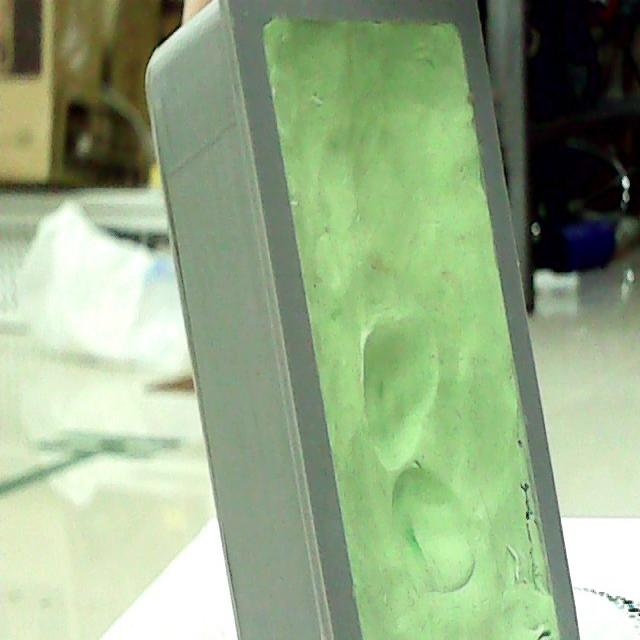block: (143, 1, 584, 640)
